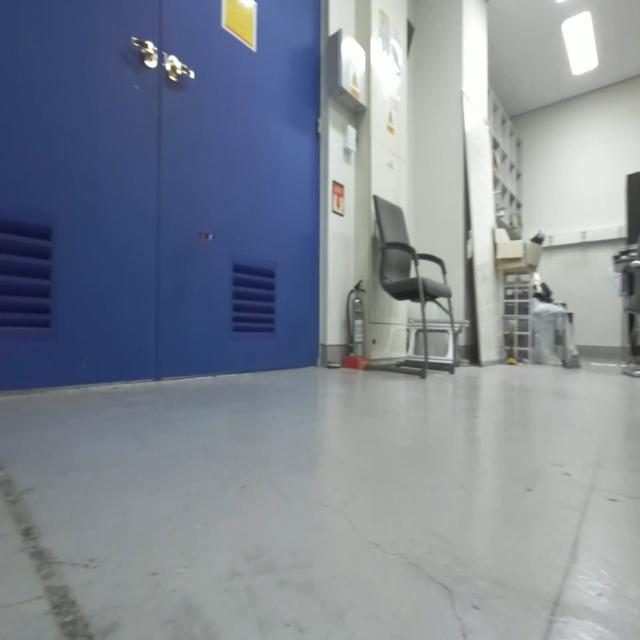crazyflie: (188, 220, 225, 258)
